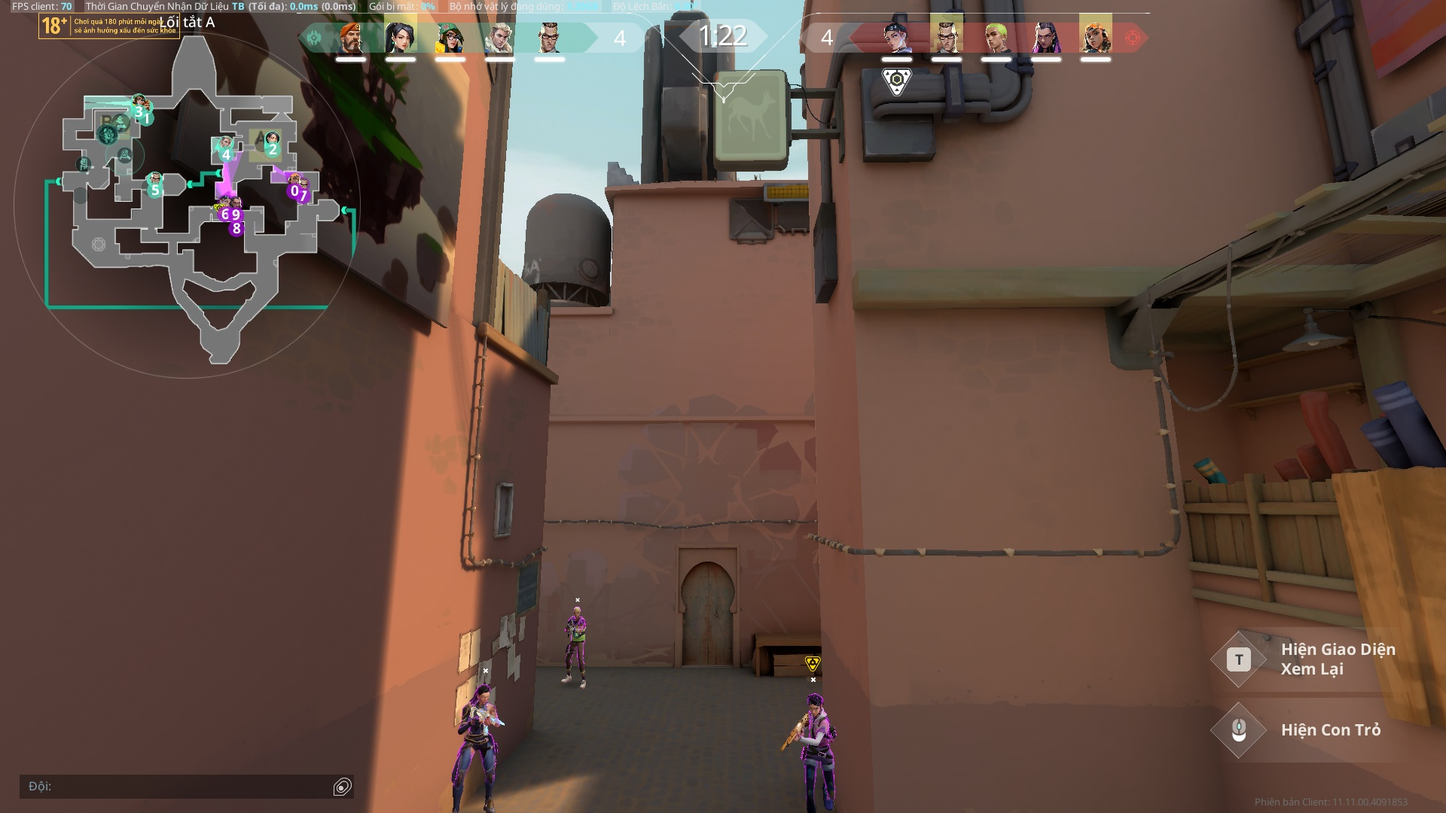body: (463, 701, 496, 735), (804, 709, 831, 744), (569, 615, 587, 640)
head: (806, 692, 824, 713), (475, 683, 490, 703), (572, 605, 581, 617)
